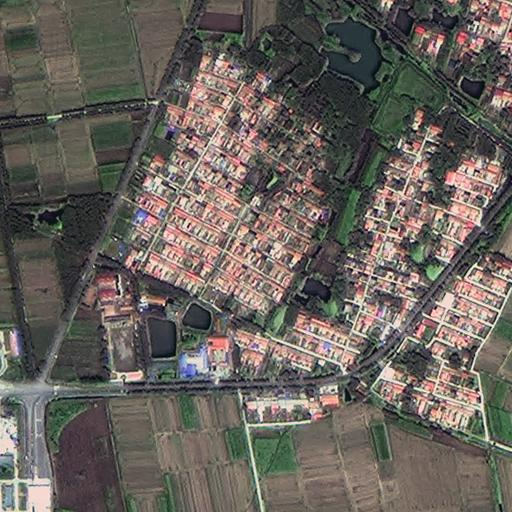school: (94, 271, 143, 384)
